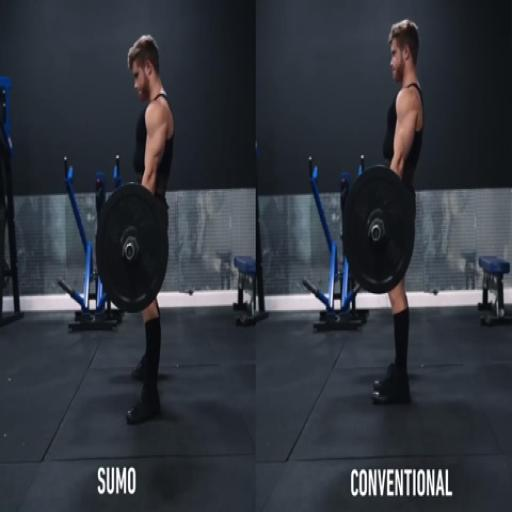exercise: (367, 17, 428, 408), (121, 33, 177, 428)
